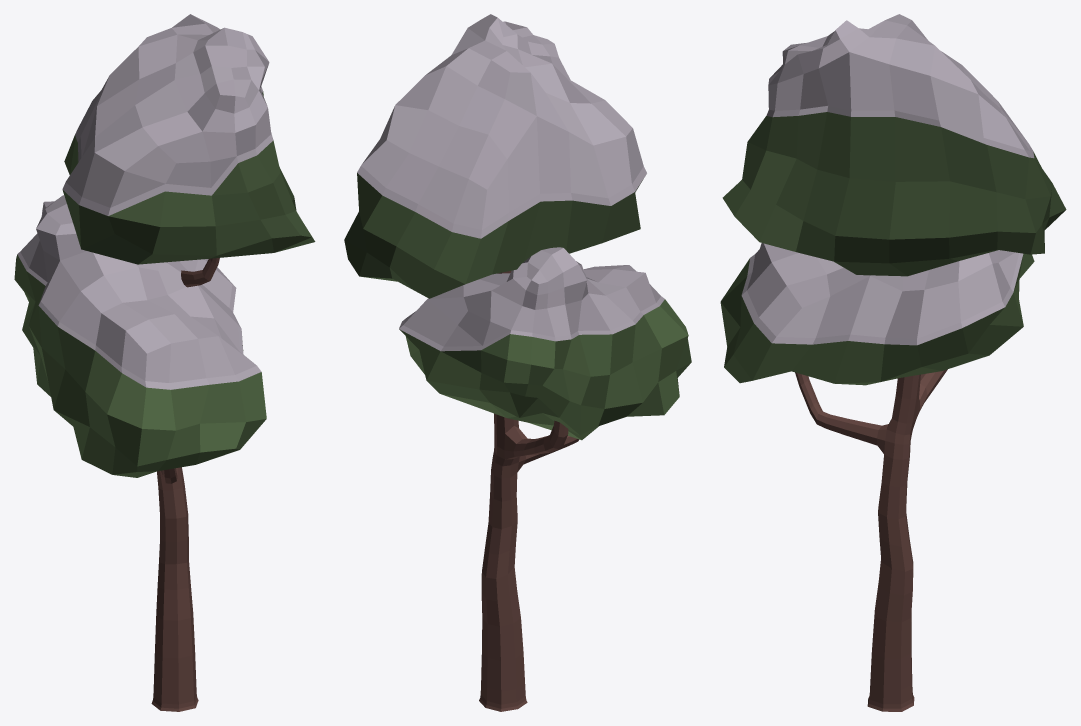
File: commontree_snow3.glb
3 renders of one model, left to right at view 1: azimuth 30°, elevation 25°; view 2: azimuth 150°, elevation 25°; view 3: azimuth 270°, elevation 25°, orthographic. The views are drawn at different scales.
Parts seen in each view (by area): view 1: CommonTree_Snow_3; view 2: CommonTree_Snow_3; view 3: CommonTree_Snow_3.
Boxes of the visible parts, left/top/right/bottom form: CommonTree_Snow_3: left=14, top=14, right=315, bottom=711; CommonTree_Snow_3: left=344, top=14, right=691, bottom=711; CommonTree_Snow_3: left=720, top=14, right=1066, bottom=711.
Size of the model in its own units: 1.28 by 3.47 by 1.56.
